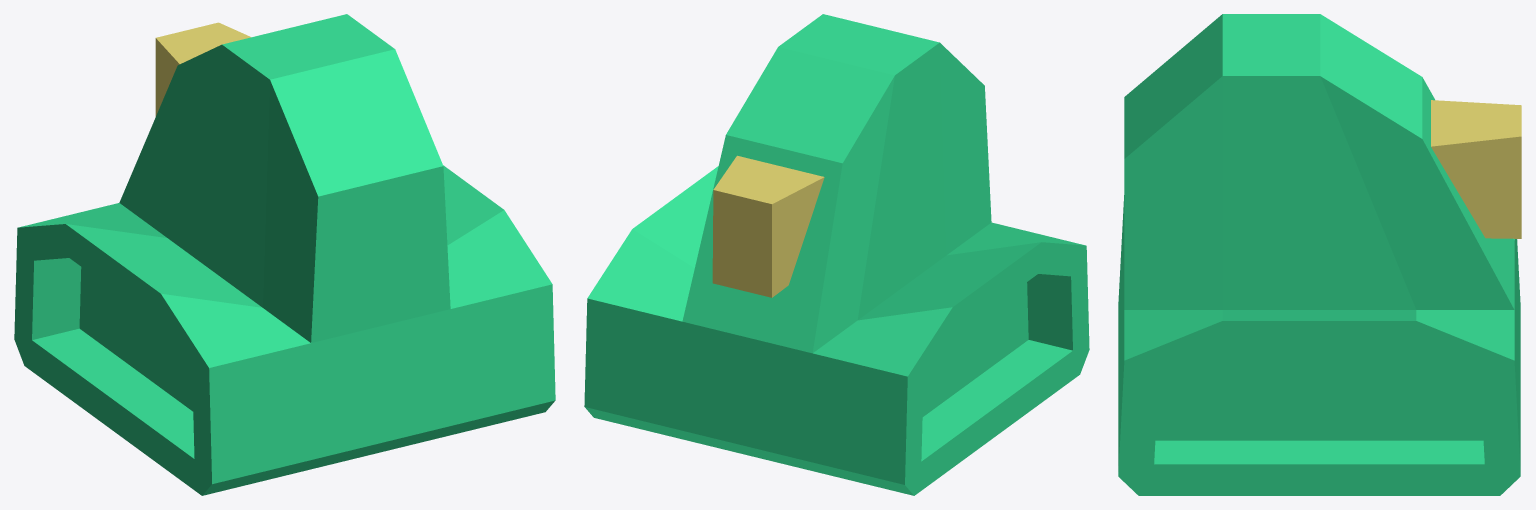
Rendered from Unit_Sponge.fbx.
3 renders of one model, left to right at view 1: azimuth 30°, elevation 25°; view 2: azimuth 150°, elevation 25°; view 3: azimuth 270°, elevation 25°, orthographic. The views are drawn at different scales.
Visible parts, largest first — view 1: Sponge, Sponge.001; view 2: Sponge, Sponge.001; view 3: Sponge.001, Sponge.
Part boxes in pixels (box(x1,y1,x2,y2)): Sponge: box(14, 165, 555, 495); Sponge.001: box(119, 14, 450, 342); Sponge: box(584, 166, 1089, 495); Sponge.001: box(682, 14, 991, 353); Sponge.001: box(1124, 14, 1521, 309); Sponge: box(1118, 195, 1520, 495).
Size of the model in its own units: 2000 by 2000 by 2000.
